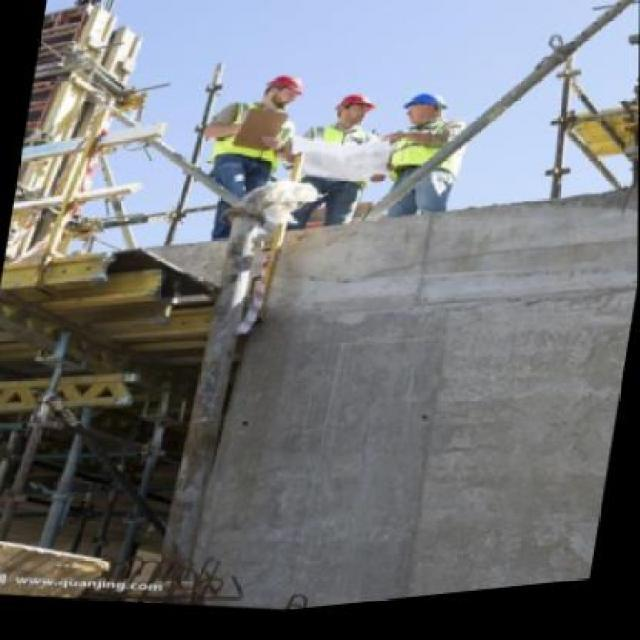helmet: (268, 76, 305, 102), (406, 97, 444, 121), (335, 97, 373, 120)
